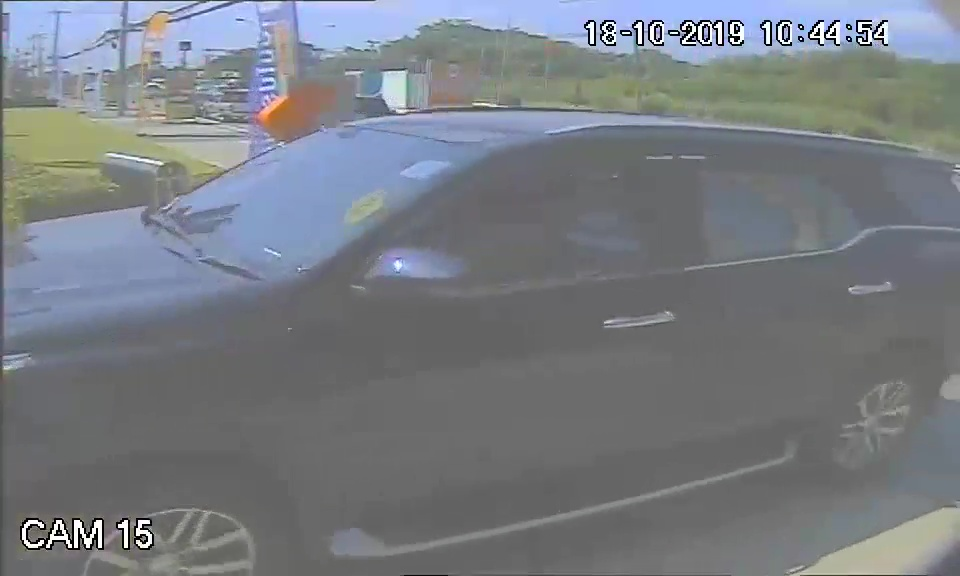pickup: (7, 102, 947, 539)
